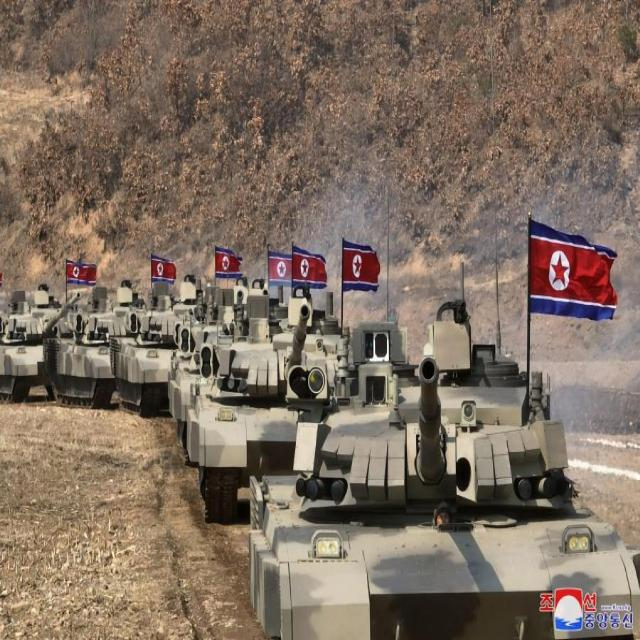north tank: (257, 299, 640, 639), (193, 288, 374, 530), (112, 283, 194, 416), (44, 295, 124, 416)
